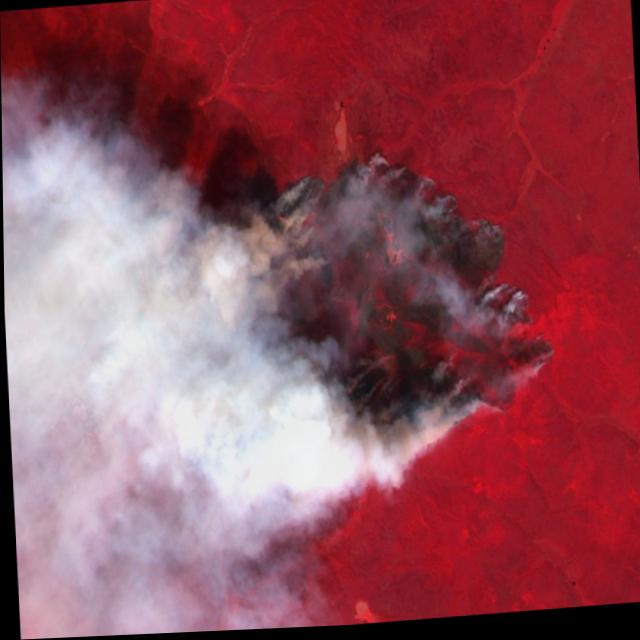fire: (243, 137, 568, 491)
